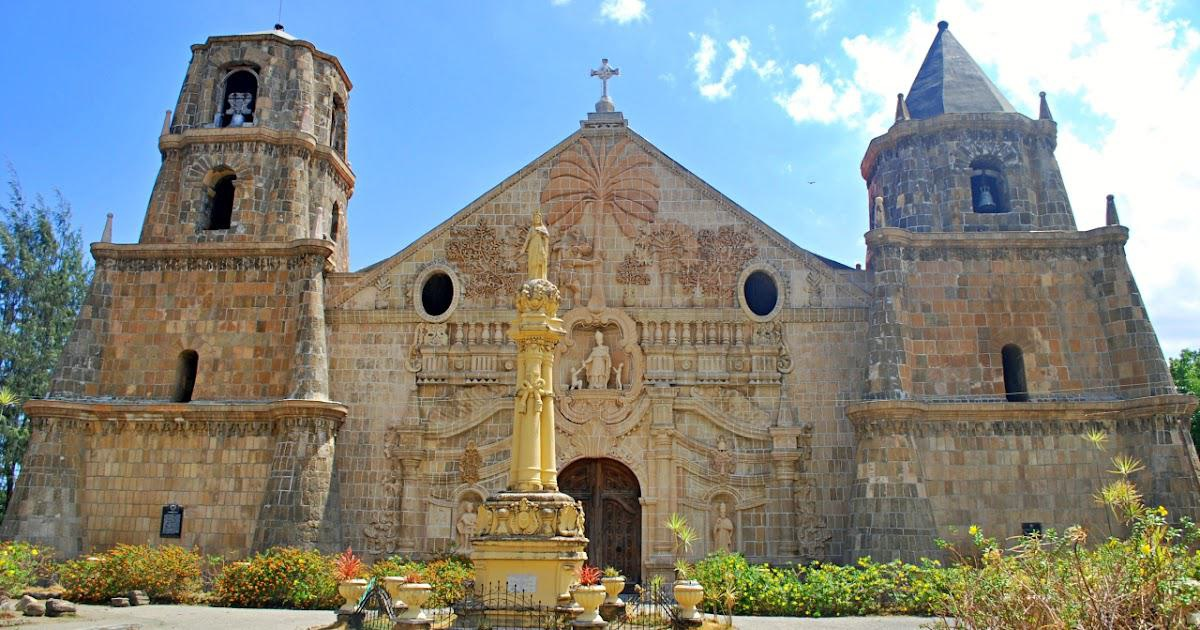miagao_church_miagao_iloilo: (16, 5, 1200, 577)
